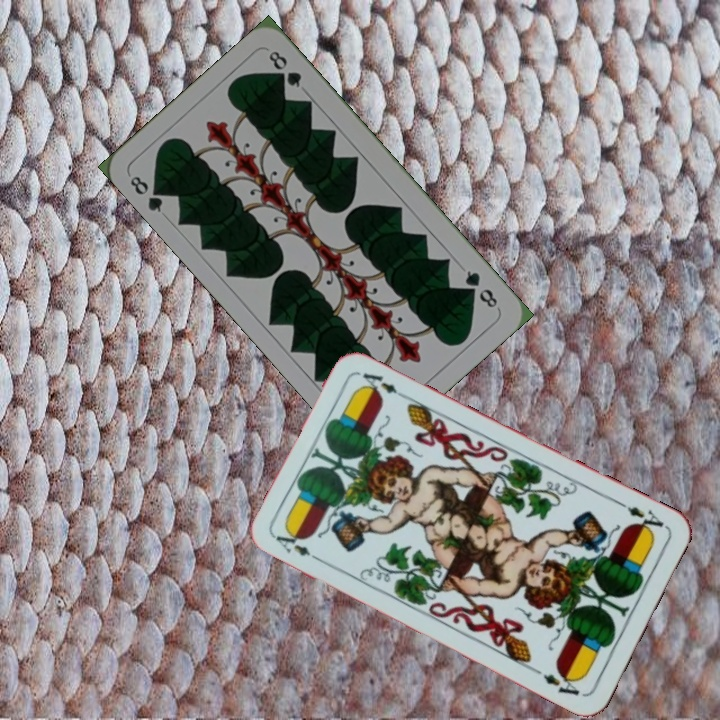EA: (613, 497, 669, 537), (271, 531, 326, 566)
G8: (126, 171, 169, 216), (460, 266, 501, 311)
